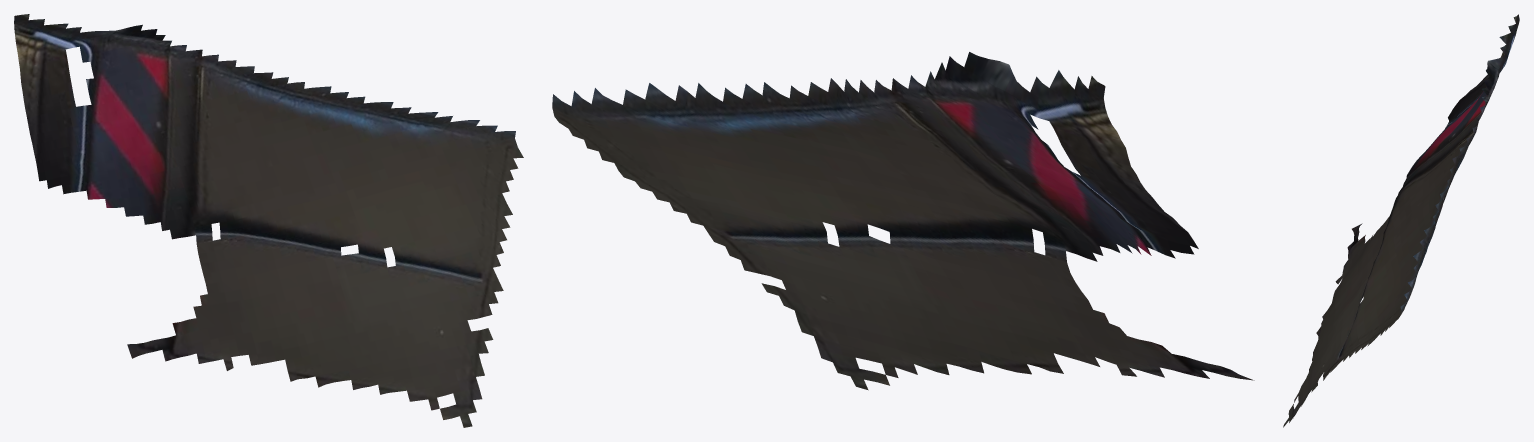
The model's file is observed-surface.glb.
3 renders of one model, left to right at view 1: azimuth 30°, elevation 25°; view 2: azimuth 150°, elevation 25°; view 3: azimuth 270°, elevation 25°, orthographic. The views are drawn at different scales.
Visible parts, largest first — view 1: geometry_0; view 2: geometry_0; view 3: geometry_0.
Part boxes in pixels (box(x1,y1,x2,y2)): geometry_0: box(14, 14, 523, 427); geometry_0: box(552, 52, 1254, 390); geometry_0: box(1283, 14, 1519, 427).
Size of the model in its own units: 0.6188 by 0.5006 by 0.3619.
1 material, 1 textured.
